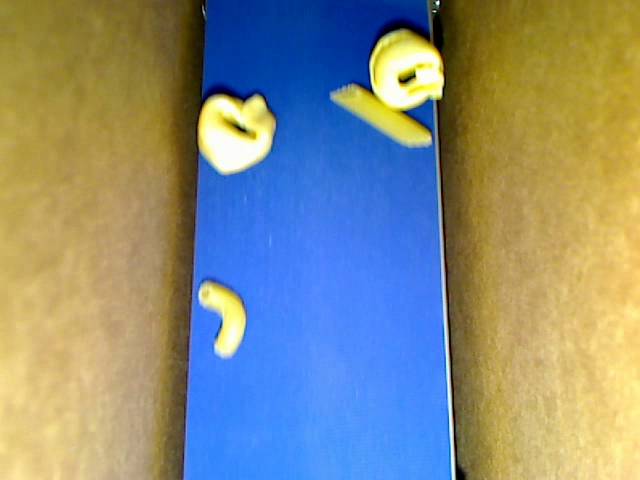elbow: (197, 279, 246, 358)
penne: (328, 84, 432, 147)
tortellini: (197, 91, 276, 176), (369, 29, 444, 110)
